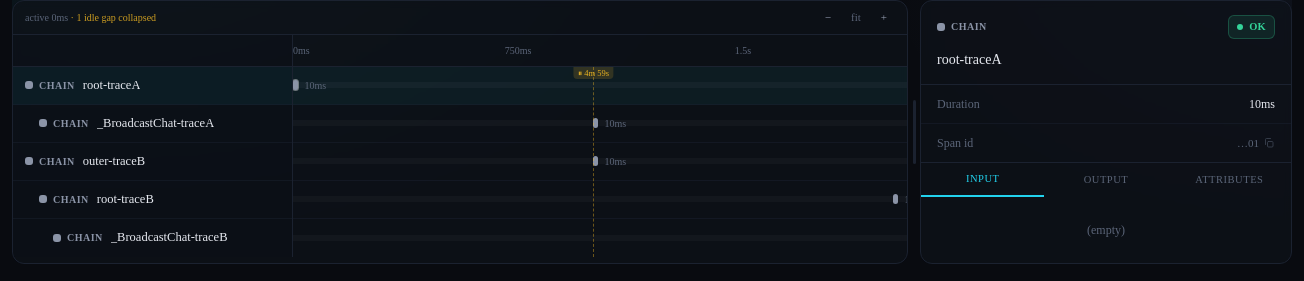
Scenario: Waterfall across turns with repeating span ids › selects only the clicked turn's span, not its twin in the other turn
The image size is (1304, 281).
Click the text "_BroadcastChat-traceB" at (169, 238), box top-left (111, 228), bottom-right (227, 247)
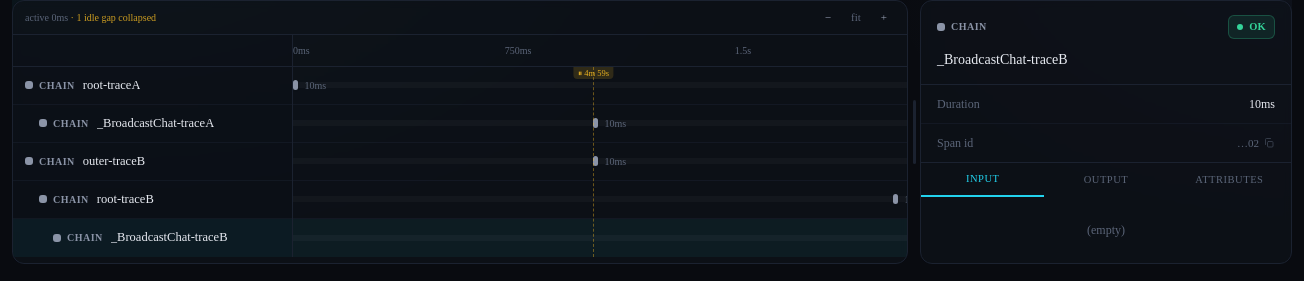
Expected: the text "_BroadcastChat-traceB" below "ok" is shown, top-left (937, 52), bottom-right (1068, 67)
